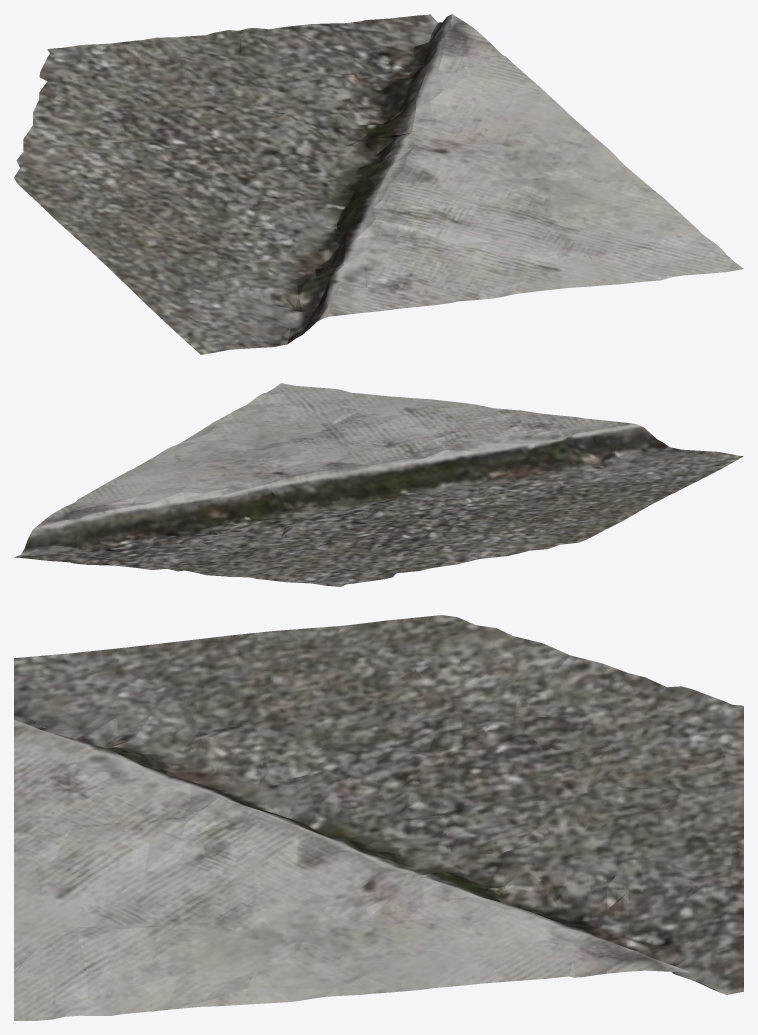
3 views of the same model, one above another, from view 1: azimuth 30°, elevation 25°; view 2: azimuth 150°, elevation 25°; view 3: azimuth 270°, elevation 25° (orthographic). The views are drawn at different scales.
Bounding box in the file's own units: 0.8373 × 0.1233 × 0.8374.
Materials: 3 (3 with a texture image).
